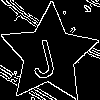J: (24, 29, 59, 80)
